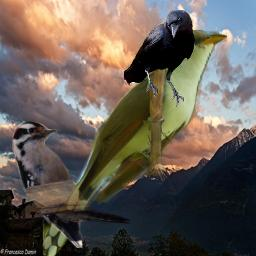Crow: (124, 10, 195, 107)
Cuckoo: (43, 30, 227, 256)
Woodpecker: (12, 121, 131, 248)
